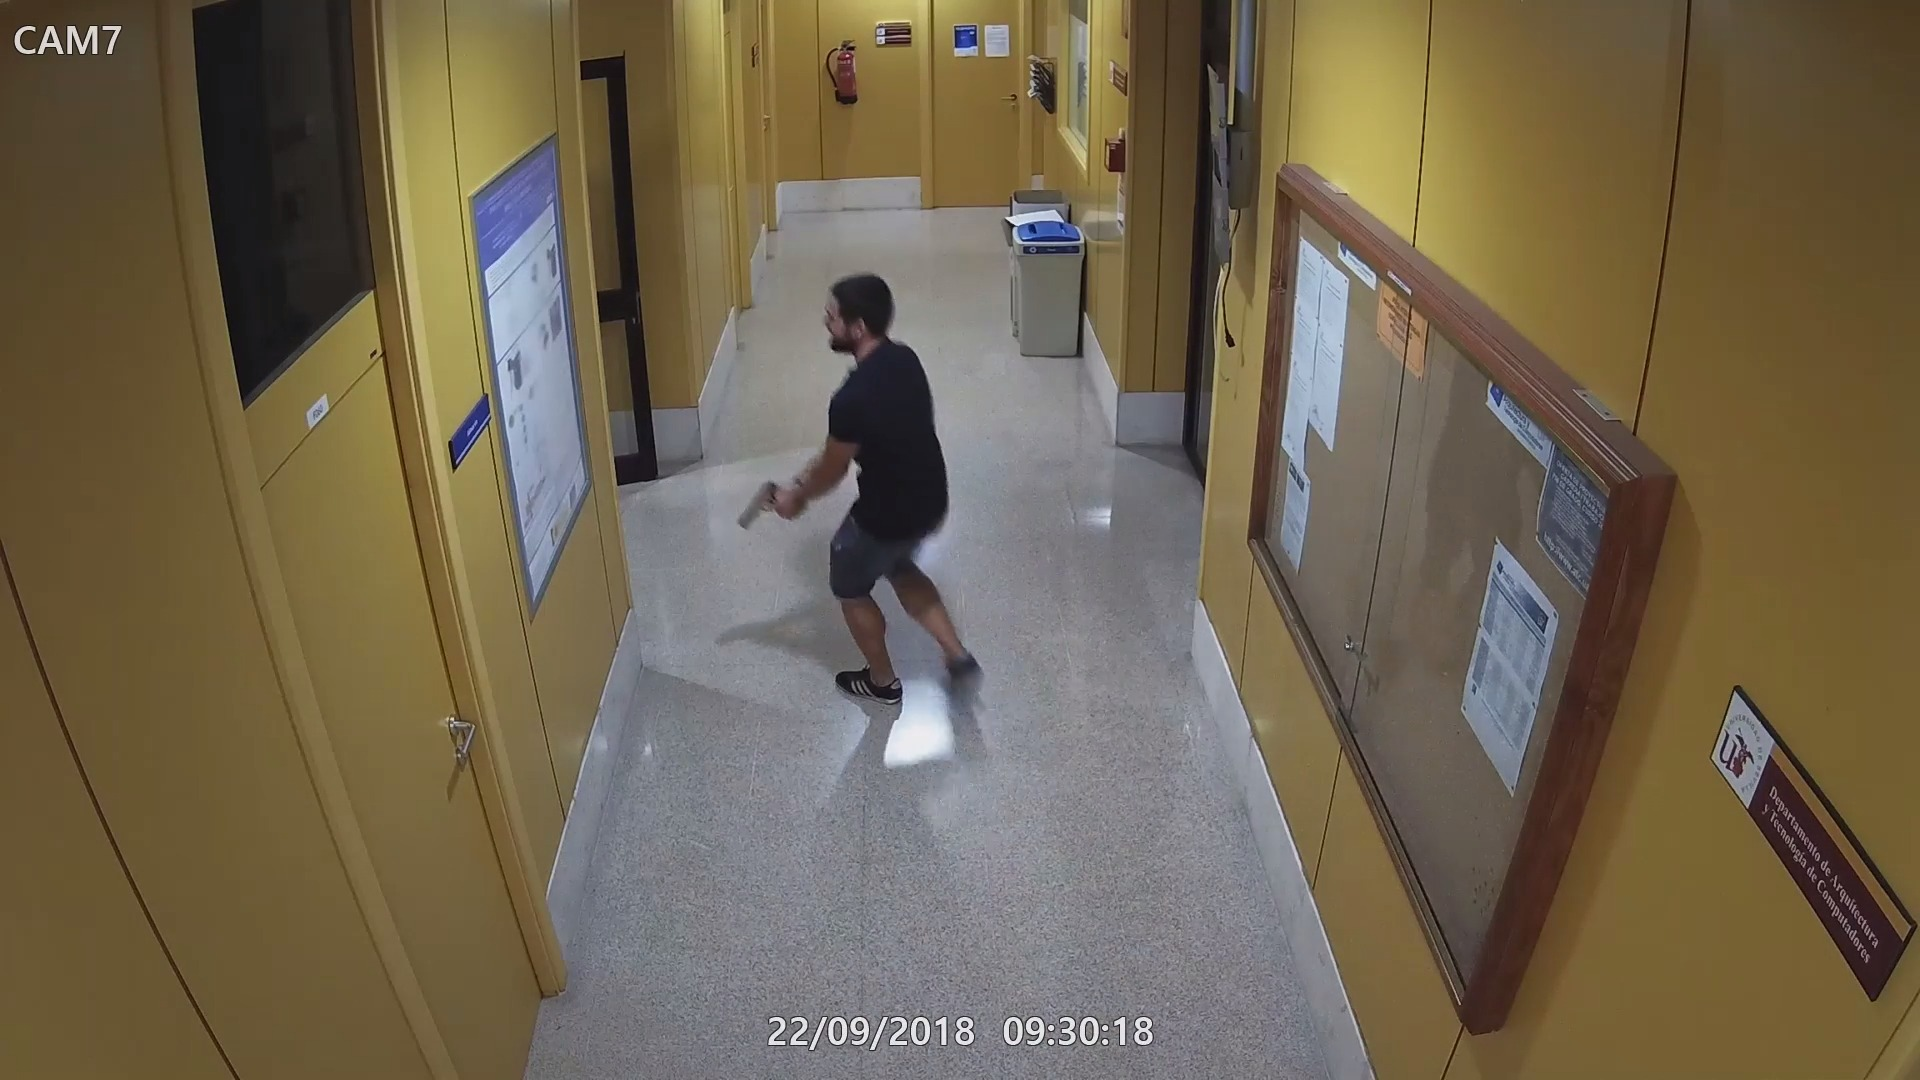Handgun: (735, 477, 808, 531)
